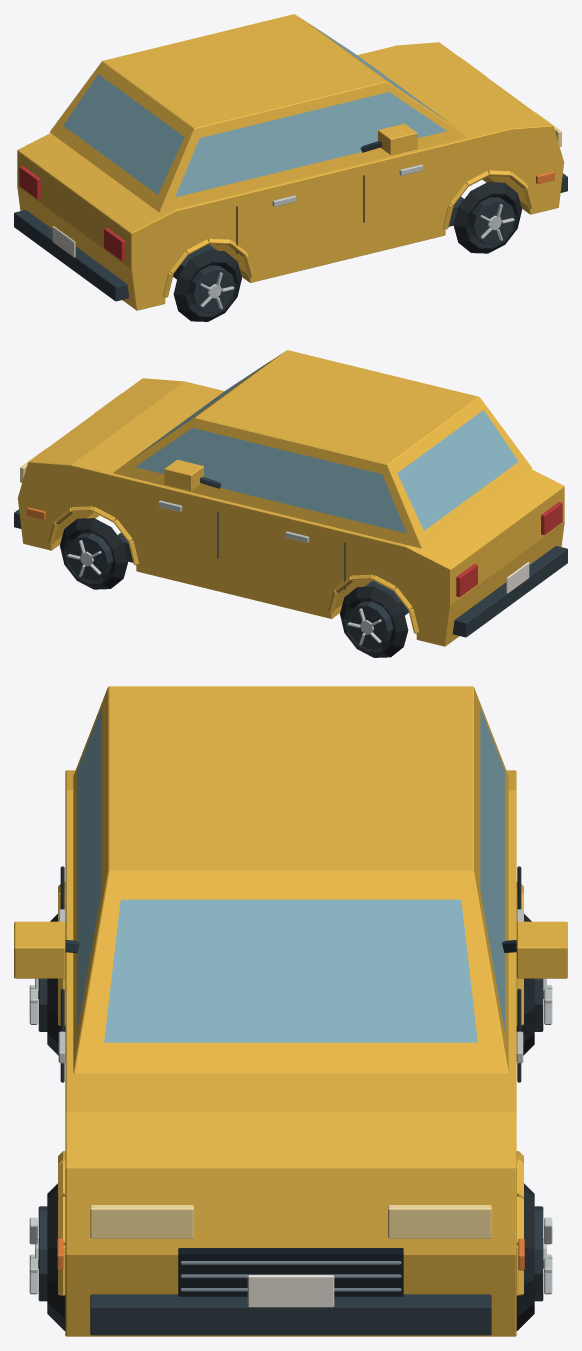
Rendered from b03_three_door_city_hatchback.glb.
3 renders of one model, top to bottom at view 1: azimuth 30°, elevation 25°; view 2: azimuth 150°, elevation 25°; view 3: azimuth 270°, elevation 25°, orthographic. The views are drawn at different scales.
Parts seen in each view (by area): view 1: b03_three_door_city_hatchback; view 2: b03_three_door_city_hatchback; view 3: b03_three_door_city_hatchback.
Boxes of the visible parts, left/top/right/bottom form: b03_three_door_city_hatchback: left=14, top=14, right=567, bottom=321; b03_three_door_city_hatchback: left=14, top=350, right=567, bottom=657; b03_three_door_city_hatchback: left=14, top=686, right=567, bottom=1336.
Bounding box in the file's own units: 3.84 × 1.5 × 2.05.
